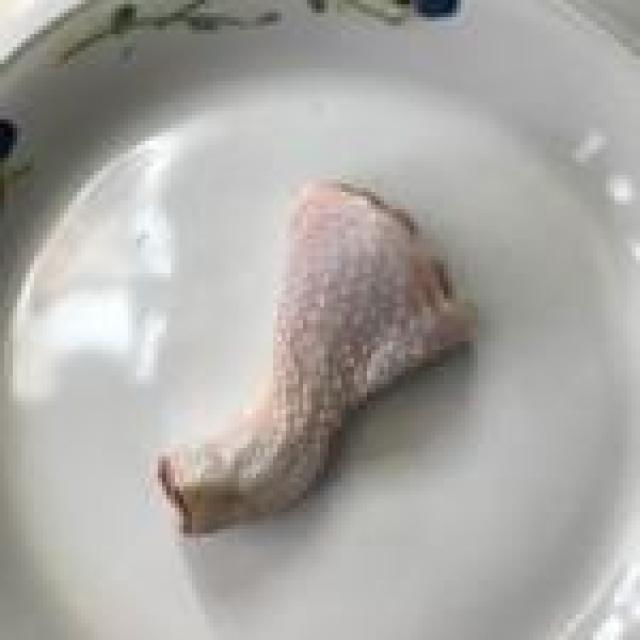leg: (153, 187, 471, 551)
